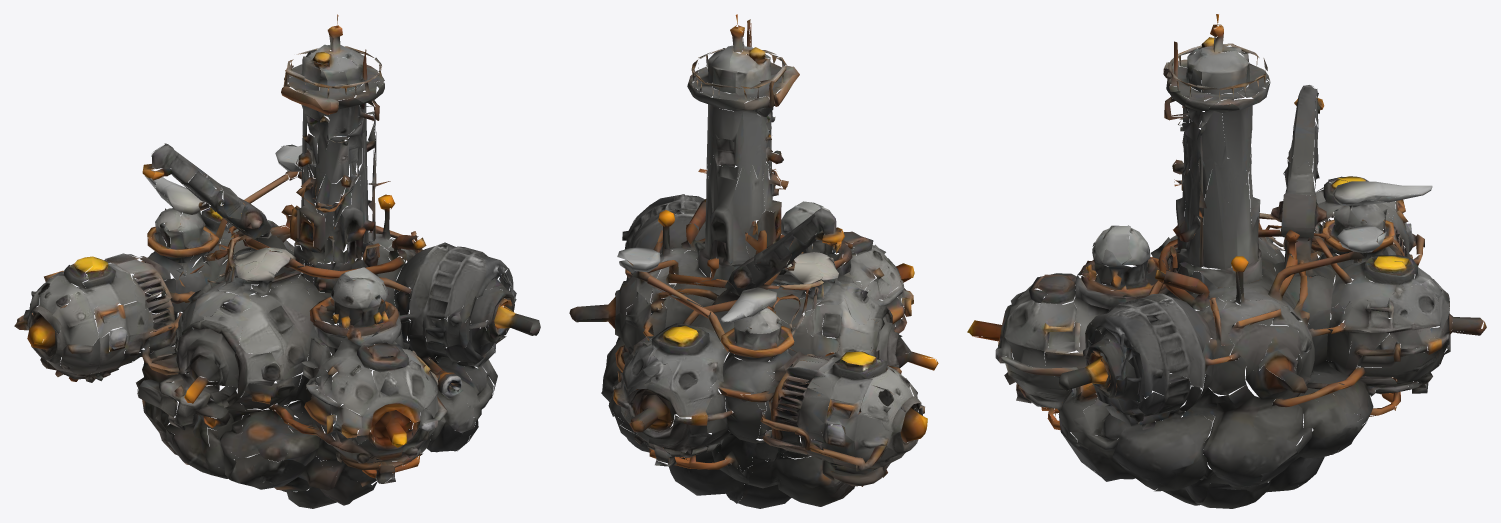
Rendered from colony.glb.
3 views of the same model, side by side, from view 1: azimuth 30°, elevation 25°; view 2: azimuth 150°, elevation 25°; view 3: azimuth 270°, elevation 25° (orthographic). The views are drawn at different scales.
Parts seen in each view (by area): view 1: tripo_node_ba9439aa-afd1-456f-b20e-5c8a7ac88478; view 2: tripo_node_ba9439aa-afd1-456f-b20e-5c8a7ac88478; view 3: tripo_node_ba9439aa-afd1-456f-b20e-5c8a7ac88478.
Boxes of the visible parts, left/top/right/bottom form: tripo_node_ba9439aa-afd1-456f-b20e-5c8a7ac88478: left=14, top=14, right=540, bottom=508; tripo_node_ba9439aa-afd1-456f-b20e-5c8a7ac88478: left=569, top=14, right=938, bottom=508; tripo_node_ba9439aa-afd1-456f-b20e-5c8a7ac88478: left=967, top=14, right=1486, bottom=508.
Size of the model in its own units: 129 by 150 by 142.
Materials: 1 (1 with a texture image).
